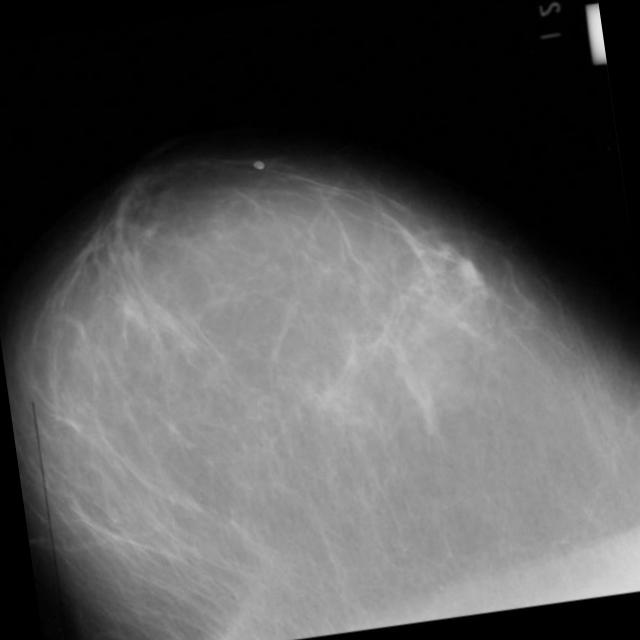CIRC: (448, 252, 489, 294)
